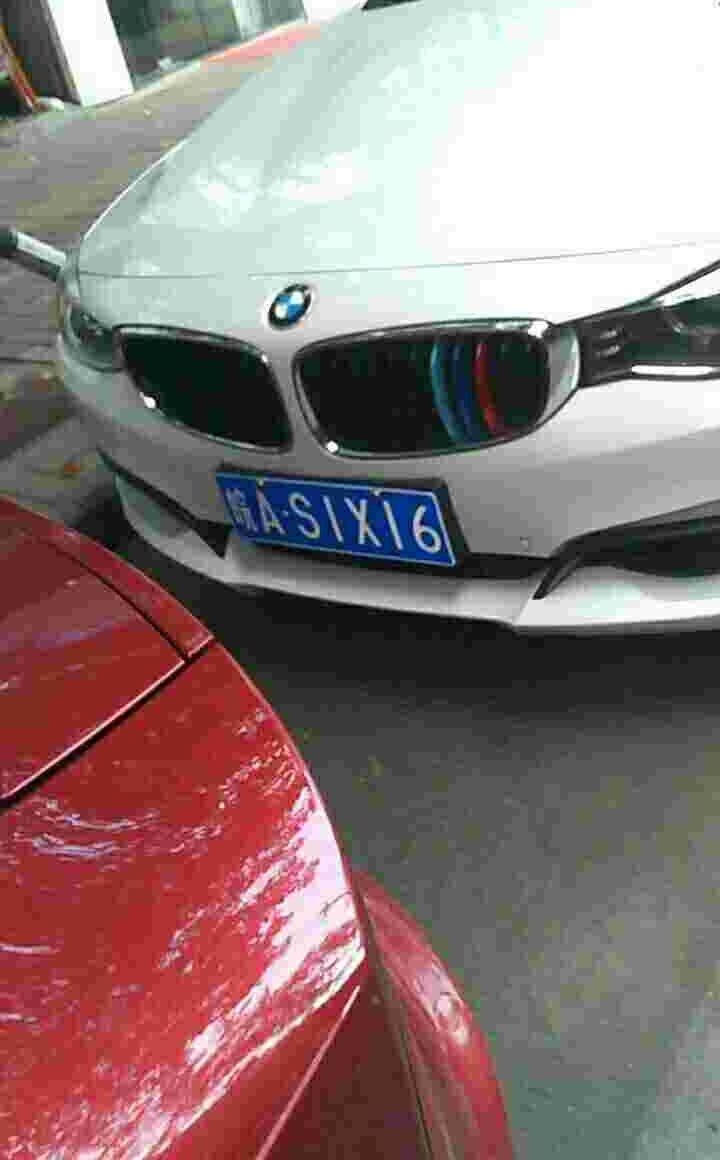license_plate: (215, 464, 447, 564)
